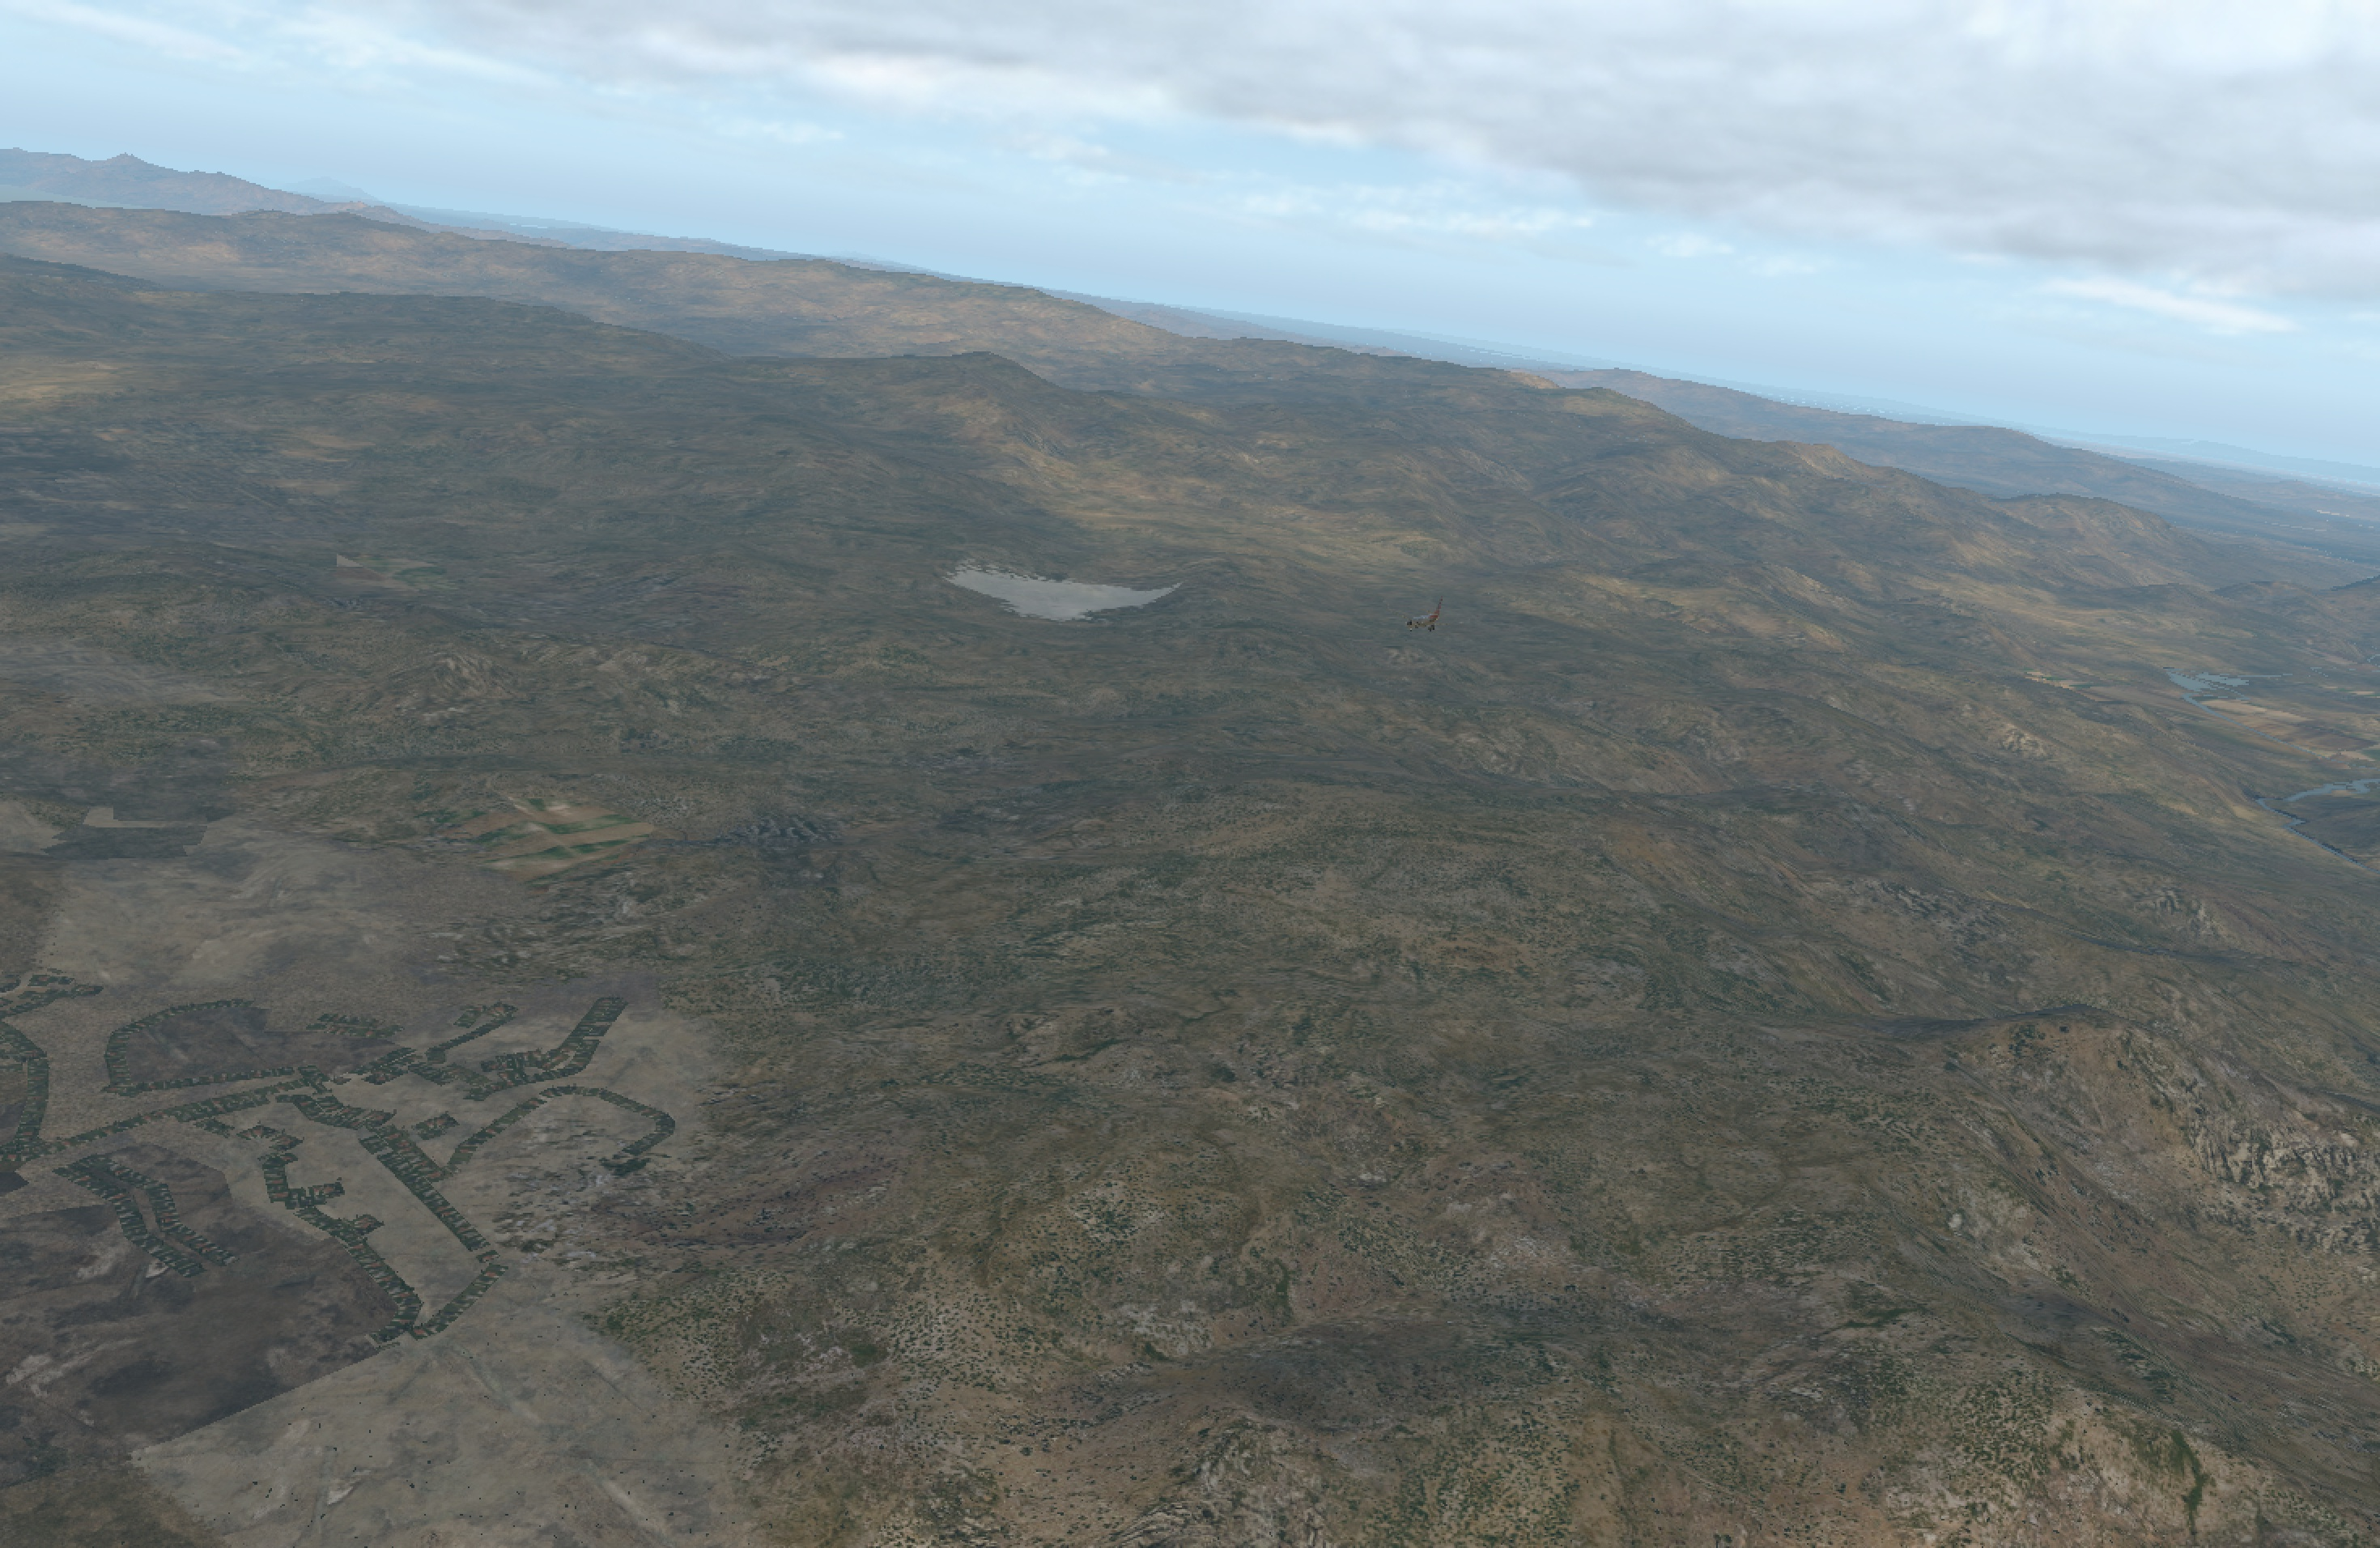aircraft: (1374, 604, 1471, 640)
